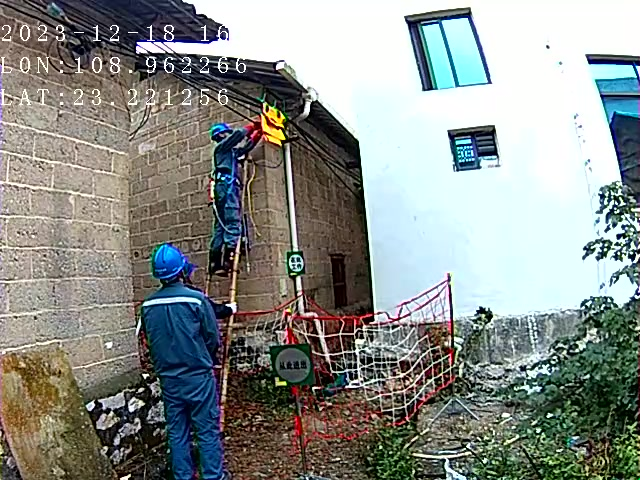downsuit: (163, 381, 228, 480), (209, 181, 240, 248)
halt: (152, 243, 193, 283), (174, 260, 197, 284), (211, 123, 234, 140)
intosign: (268, 343, 314, 387)
longglove: (246, 128, 266, 142), (245, 117, 262, 132)
person: (138, 242, 239, 480), (202, 114, 269, 277)
safebelt: (211, 137, 248, 202)
upsuit: (139, 288, 220, 380), (209, 143, 242, 184)
wglove: (224, 299, 237, 314)
worksign: (283, 251, 308, 277)
